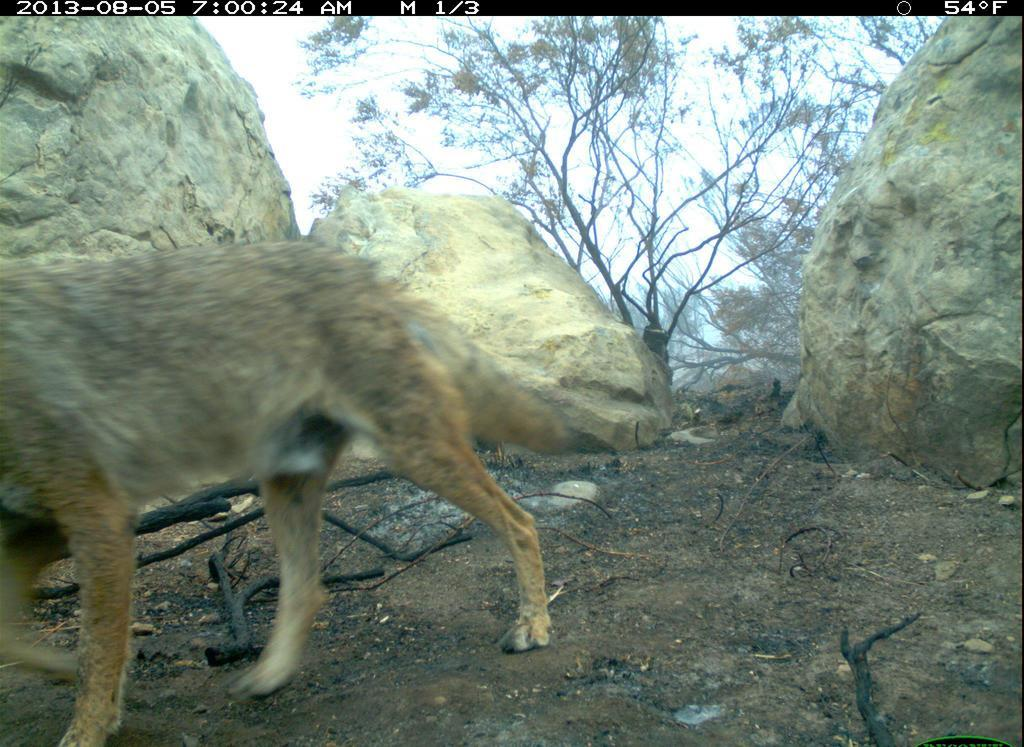coyote: (3, 239, 579, 747)
